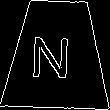N_N: (35, 29, 79, 81)
